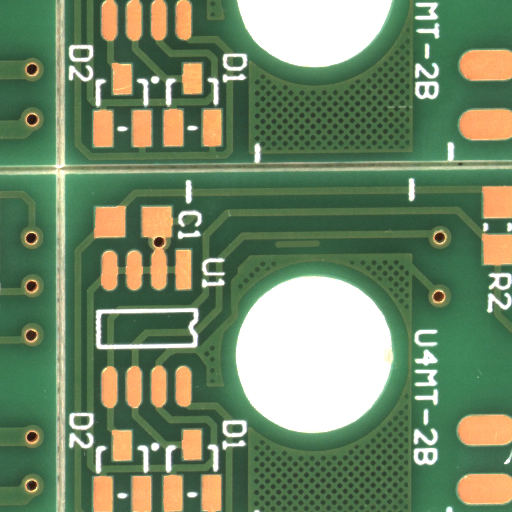Spurious_copper: (297, 243, 346, 254)
